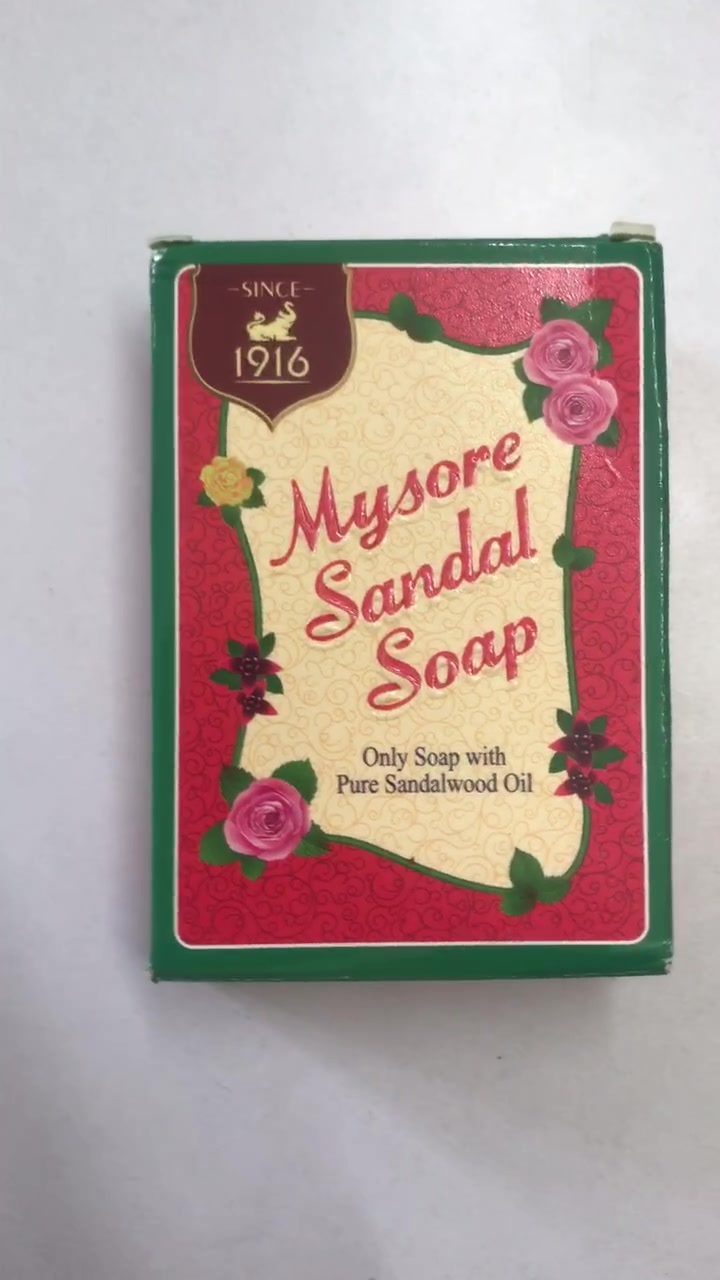mysore sandal soap: (159, 243, 655, 964)
